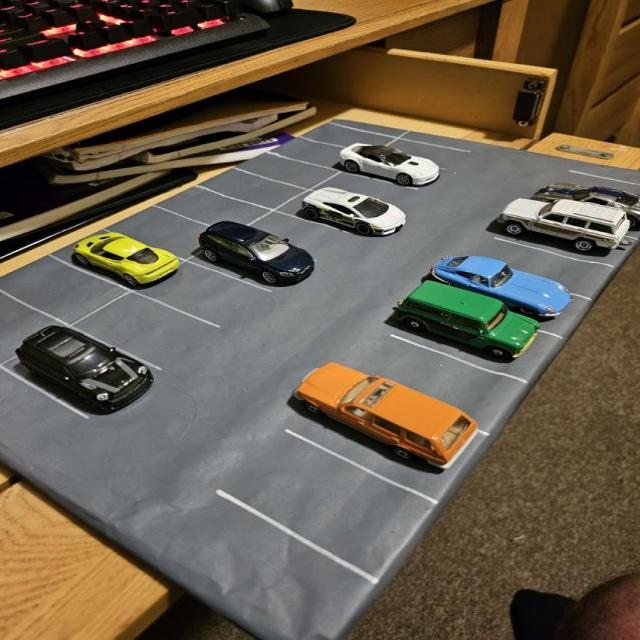Empty: (209, 427, 440, 585), (344, 334, 531, 437), (64, 289, 222, 371), (128, 259, 275, 329), (0, 257, 136, 328), (462, 238, 615, 298), (102, 205, 231, 260), (147, 183, 278, 230), (245, 210, 356, 260), (193, 168, 313, 211), (229, 151, 347, 189), (306, 172, 430, 205), (265, 135, 366, 173), (292, 121, 399, 153), (378, 137, 474, 171)
Taken: (291, 365, 490, 506), (391, 289, 565, 381), (0, 322, 160, 419), (424, 257, 598, 339), (179, 227, 321, 294), (46, 228, 187, 294), (488, 206, 639, 266), (267, 185, 394, 237), (533, 181, 640, 241), (337, 143, 449, 193)
